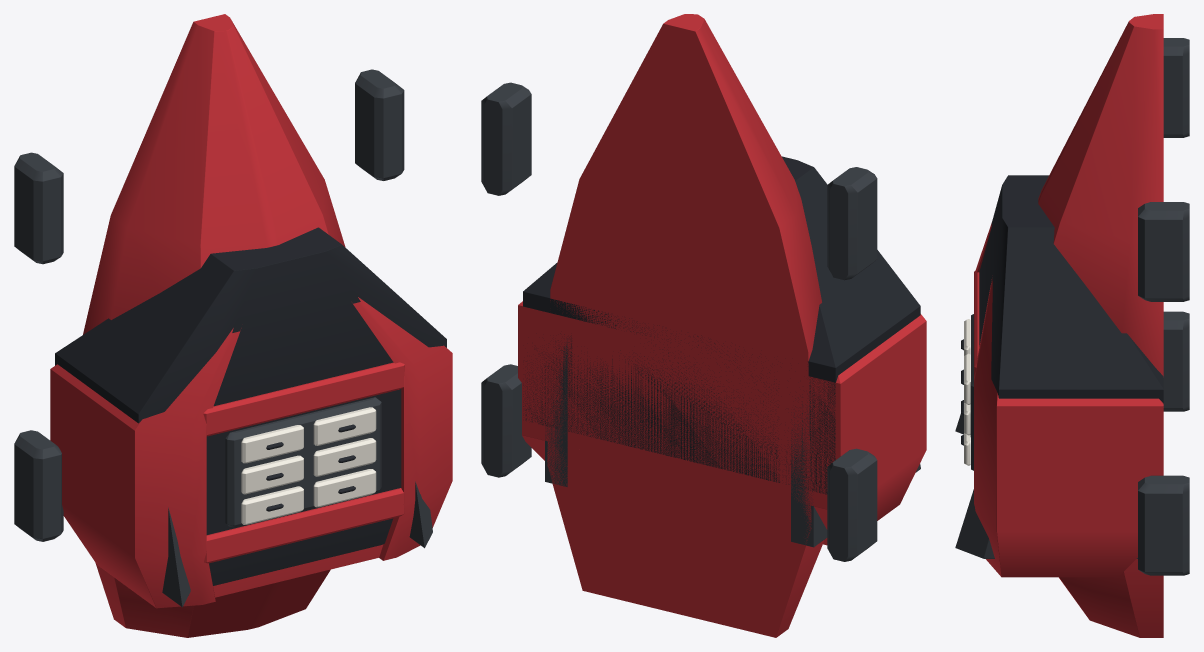
The model's file is CalfFront_Set07_Salvo.fbx.
3 renders of one model, left to right at view 1: azimuth 30°, elevation 25°; view 2: azimuth 150°, elevation 25°; view 3: azimuth 270°, elevation 25°, orthographic. The views are drawn at different scales.
Visible parts, largest first — view 1: CalfFront_Set07_Salvo; view 2: CalfFront_Set07_Salvo; view 3: CalfFront_Set07_Salvo.
Part boxes in pixels (box(x1,y1,x2,y2)): CalfFront_Set07_Salvo: box(14, 14, 452, 637); CalfFront_Set07_Salvo: box(481, 14, 926, 637); CalfFront_Set07_Salvo: box(955, 14, 1189, 637).
Bounding box in the file's own units: 0.49 × 0.73 × 0.2718.
